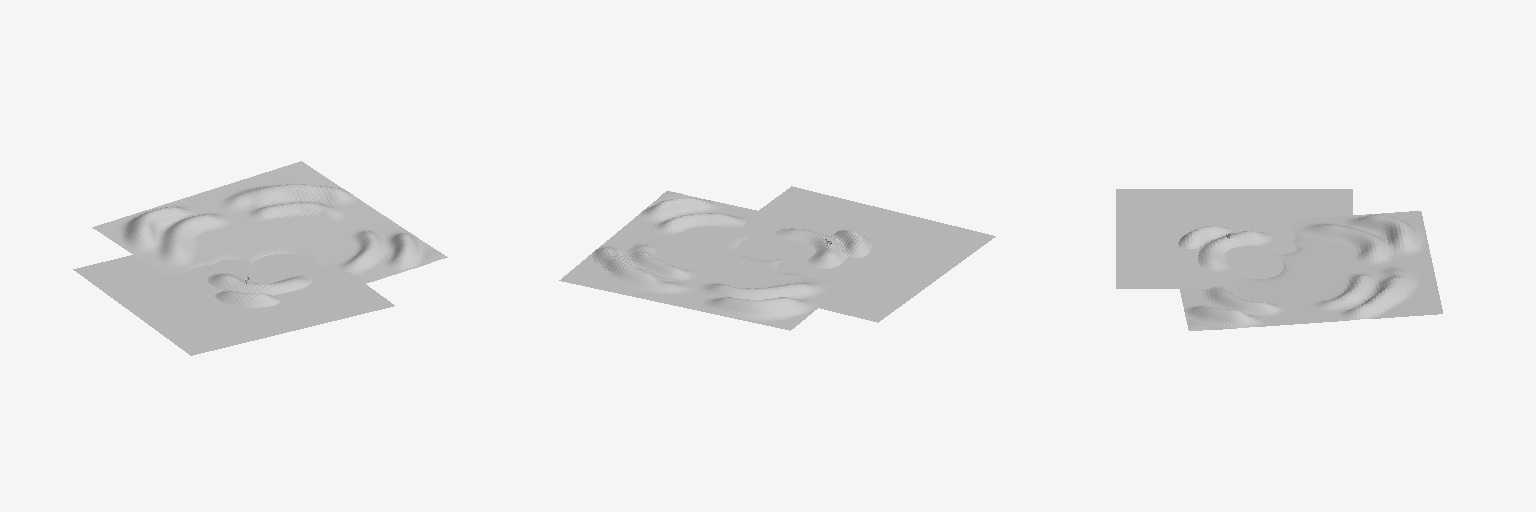
Rendered from obiect.obj.
3 renders of one model, left to right at view 1: azimuth 30°, elevation 25°; view 2: azimuth 150°, elevation 25°; view 3: azimuth 270°, elevation 25°, orthographic.
Visible parts, largest first — view 1: Plane, Plane.001; view 2: Plane, Plane.001; view 3: Plane, Plane.001.
Boxes of the visible parts, box(x1,y1,x2,y2) form: Plane: box(92, 161, 447, 307); Plane.001: box(73, 254, 394, 355); Plane: box(559, 191, 871, 330); Plane.001: box(737, 186, 995, 322); Plane: box(1178, 211, 1442, 330); Plane.001: box(1116, 189, 1352, 288).
Bounding box in the file's own units: 23.54 × 1.63 × 22.73.